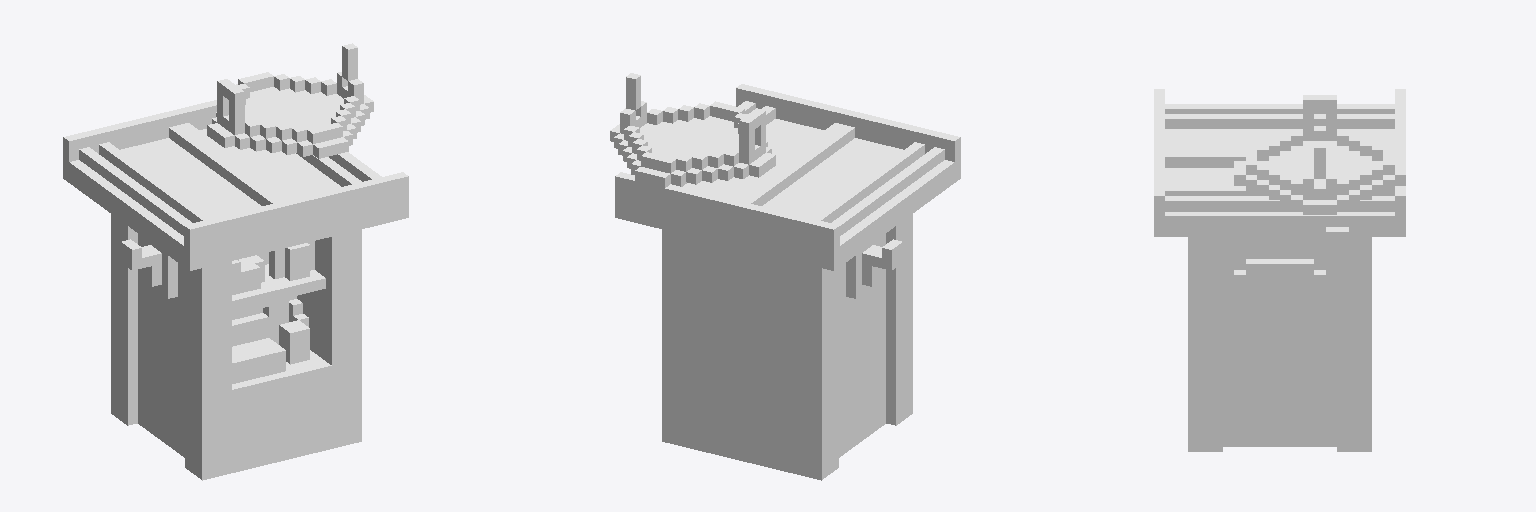
File: OsborneFireFinder.obj
3 renders of one model, left to right at view 1: azimuth 30°, elevation 25°; view 2: azimuth 150°, elevation 25°; view 3: azimuth 270°, elevation 25°, orthographic.
Parts seen in each view (by area): view 1: CupboardBigDoor; view 2: CupboardBigDoor; view 3: CupboardBigDoor.
Part boxes in pixels (x1,y1,x2,y2): CupboardBigDoor: (63, 43, 408, 480); CupboardBigDoor: (610, 73, 960, 480); CupboardBigDoor: (1154, 89, 1405, 451).
Size of the model in its own units: 2.6 by 3.2 by 2.2.